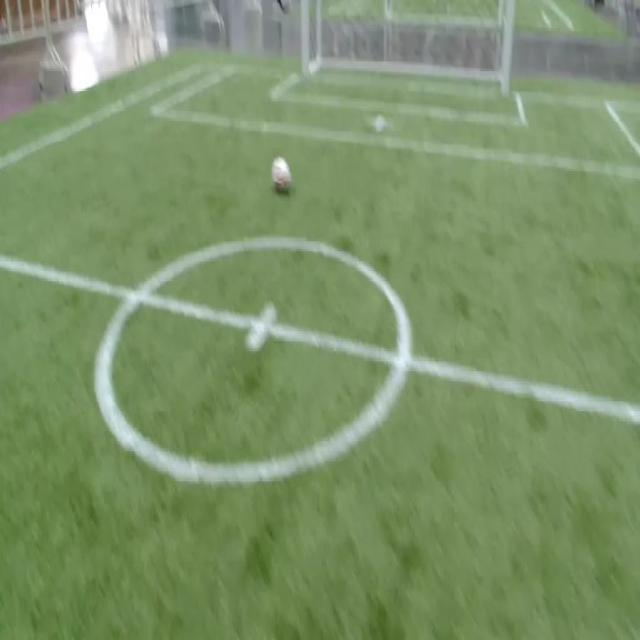ball: (271, 158, 292, 192)
goalpost: (296, 32, 314, 82), (499, 56, 512, 104)
